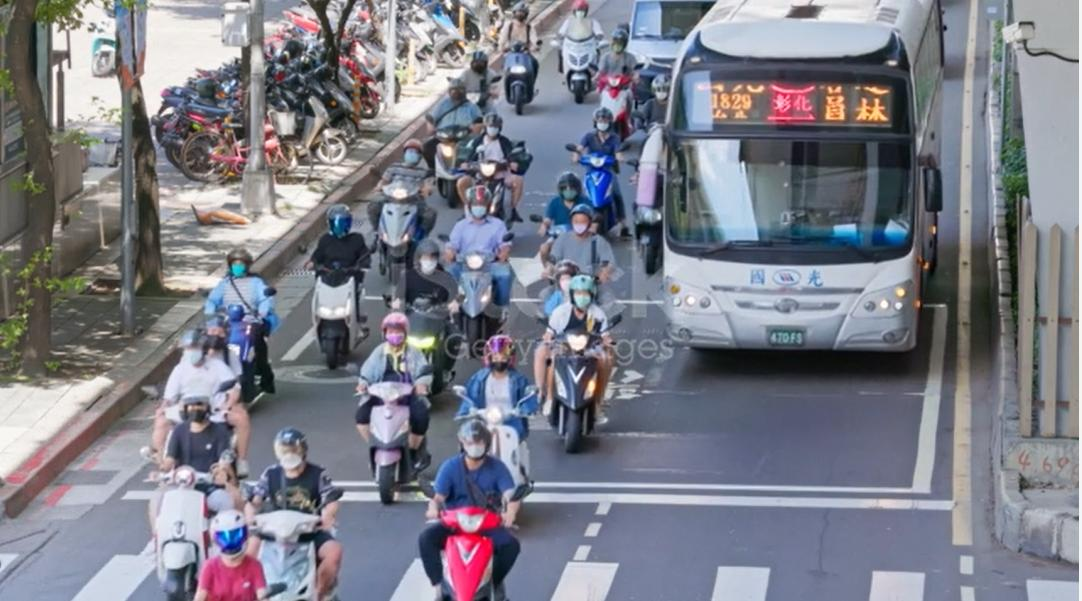bus: (631, 0, 962, 377)
motorcycle: (397, 447, 531, 601), (283, 223, 381, 382), (137, 427, 226, 601), (529, 301, 621, 453), (232, 477, 339, 601), (437, 214, 513, 346), (192, 276, 278, 392), (356, 369, 430, 502), (385, 286, 457, 379), (369, 156, 422, 281), (423, 102, 472, 218), (458, 134, 509, 242), (567, 132, 628, 222), (589, 57, 637, 136), (499, 40, 543, 119), (555, 38, 600, 108)
